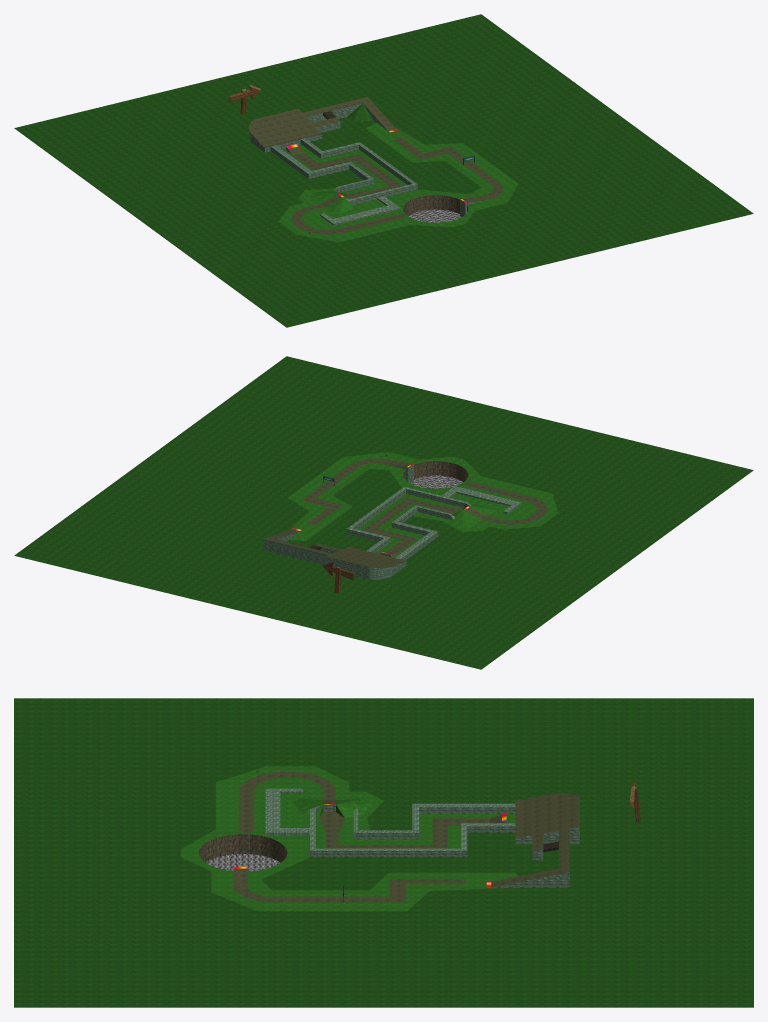
3 renders of one model, top to bottom at view 1: azimuth 30°, elevation 25°; view 2: azimuth 150°, elevation 25°; view 3: azimuth 270°, elevation 25°, orthographic. The views are drawn at different scales.
Parts seen in each view (by area): view 1: Midnight_Starway_SKP__mat6.001, Midnight_Starway_SKP__mat5.001, Midnight_Starway_SKP__mat7.001, Midnight_Starway_SKP__mat9.001, Midnight_Starway_SKP__Material1.001, Midnight_Starway_SKP__Material3.001; view 2: Midnight_Starway_SKP__mat6.001, Midnight_Starway_SKP__mat5.001, Midnight_Starway_SKP__mat9.001, Midnight_Starway_SKP__mat7.001, Midnight_Starway_SKP__Material1.001, Midnight_Starway_SKP__Material3.001; view 3: Midnight_Starway_SKP__mat6.001, Midnight_Starway_SKP__mat5.001, Midnight_Starway_SKP__mat7.001, Midnight_Starway_SKP__mat9.001, Midnight_Starway_SKP__Material1.001, Midnight_Starway_SKP__Material3.001.
Boxes of the visible parts, <box> form: Midnight_Starway_SKP__mat6.001: <box>14,14,753,327</box>; Midnight_Starway_SKP__mat5.001: <box>278,123,518,242</box>; Midnight_Starway_SKP__mat7.001: <box>249,97,502,234</box>; Midnight_Starway_SKP__mat9.001: <box>249,103,487,225</box>; Midnight_Starway_SKP__Material1.001: <box>403,195,468,215</box>; Midnight_Starway_SKP__Material3.001: <box>408,209,461,222</box>; Midnight_Starway_SKP__mat6.001: <box>14,356,753,669</box>; Midnight_Starway_SKP__mat5.001: <box>288,452,558,557</box>; Midnight_Starway_SKP__mat9.001: <box>263,464,521,579</box>; Midnight_Starway_SKP__mat7.001: <box>264,458,546,567</box>; Midnight_Starway_SKP__Material1.001: <box>403,461,468,481</box>; Midnight_Starway_SKP__Material3.001: <box>410,475,462,488</box>; Midnight_Starway_SKP__mat6.001: <box>14,698,753,1007</box>; Midnight_Starway_SKP__mat5.001: <box>181,766,518,911</box>; Midnight_Starway_SKP__mat7.001: <box>233,771,579,902</box>; Midnight_Starway_SKP__mat9.001: <box>265,788,579,887</box>; Midnight_Starway_SKP__Material1.001: <box>199,834,287,862</box>; Midnight_Starway_SKP__Material3.001: <box>206,854,280,871</box>.
Bounding box in the file's own units: 218352 × 19524 × 220677.
14 materials, 13 textured.
